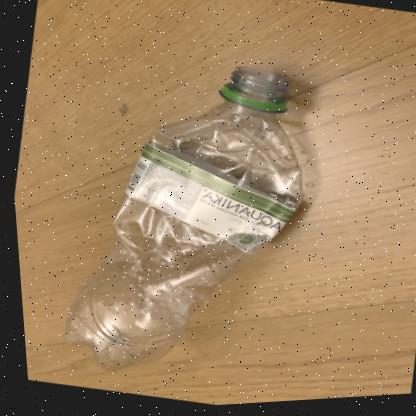Plastic: (60, 69, 297, 370)
